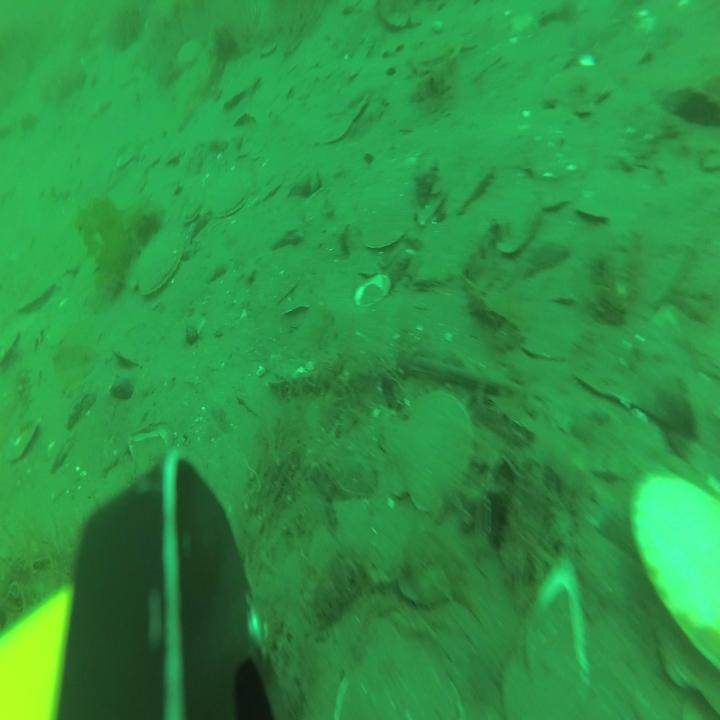scallop: (632, 458, 720, 683), (385, 384, 474, 517), (358, 170, 415, 247), (492, 188, 544, 261), (130, 232, 185, 301), (452, 152, 496, 214), (209, 168, 255, 223), (224, 65, 262, 112), (575, 189, 611, 235), (534, 180, 570, 221), (18, 276, 56, 314), (0, 329, 21, 377), (176, 36, 204, 72), (182, 197, 203, 224)
